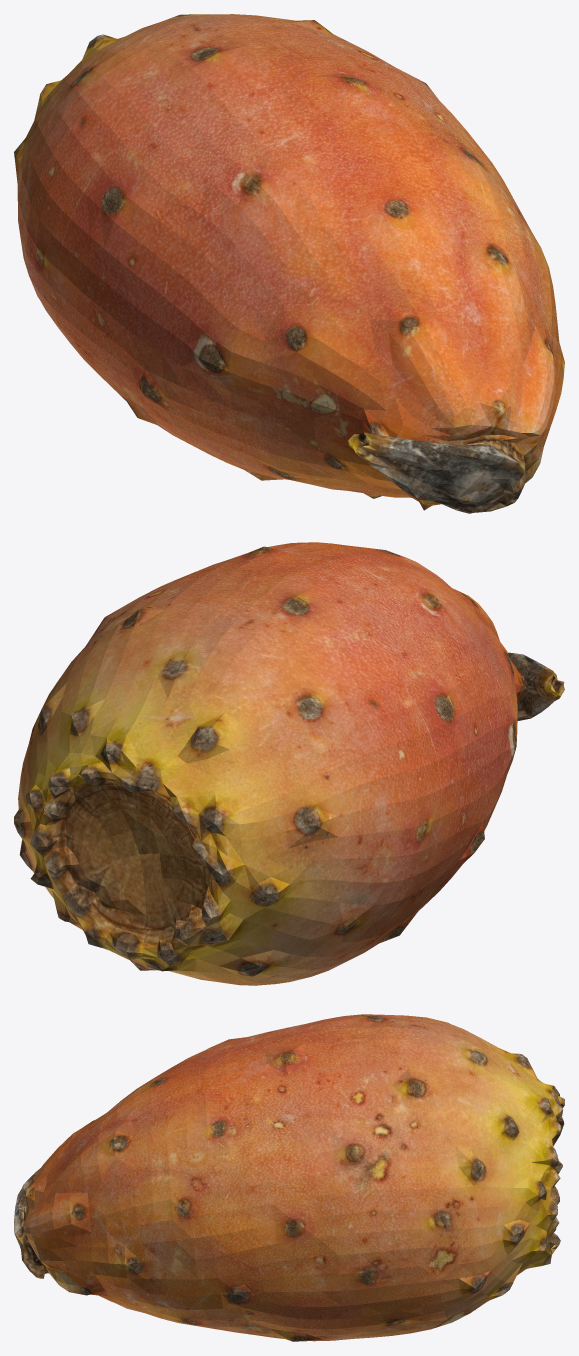
The model's file is pitaya.glb.
3 renders of one model, top to bottom at view 1: azimuth 30°, elevation 25°; view 2: azimuth 150°, elevation 25°; view 3: azimuth 270°, elevation 25°, orthographic. The views are drawn at different scales.
Visible parts, largest first — view 1: Cactus_Fig_04; view 2: Cactus_Fig_04; view 3: Cactus_Fig_04.
Boxes of the visible parts, bbox=[...] form: Cactus_Fig_04: bbox=[14, 14, 564, 513]; Cactus_Fig_04: bbox=[14, 542, 564, 985]; Cactus_Fig_04: bbox=[14, 1014, 564, 1341].
Bounding box in the file's own units: 5.42 × 5.02 × 8.65.
1 material, 1 textured.
